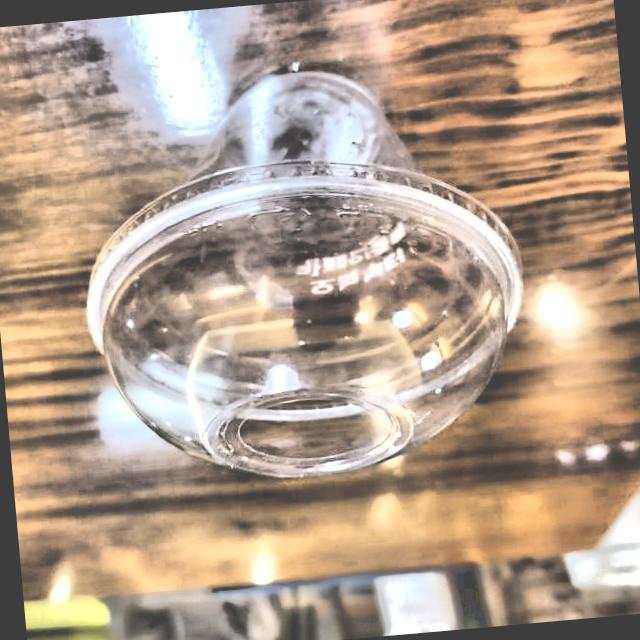plastic cup: (21, 13, 588, 520)
